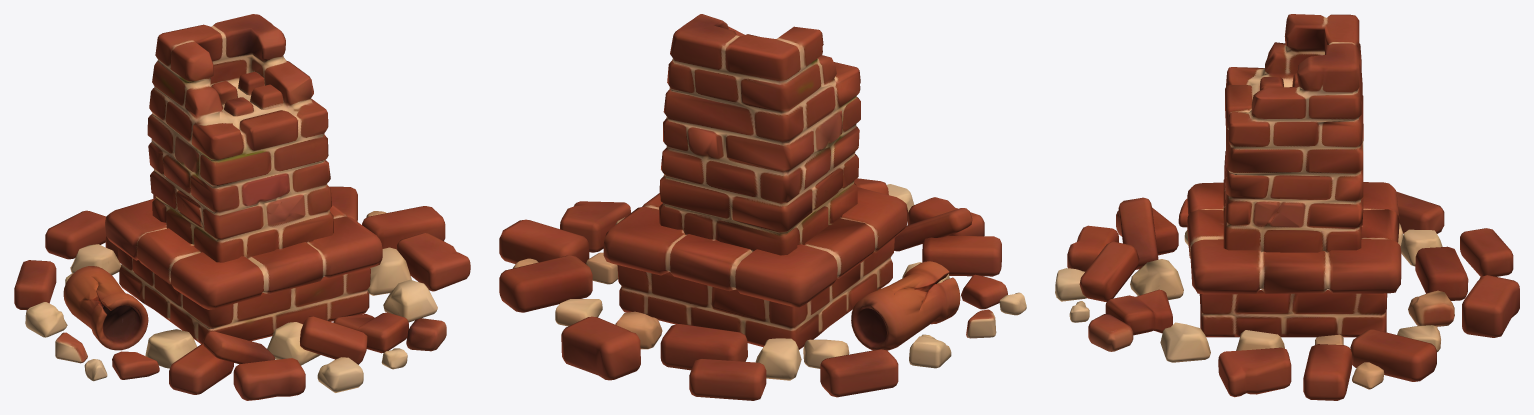
The model's file is boss_chimney_broken.glb.
3 views of the same model, side by side, from view 1: azimuth 30°, elevation 25°; view 2: azimuth 150°, elevation 25°; view 3: azimuth 270°, elevation 25° (orthographic). The views are drawn at different scales.
Parts seen in each view (by area): view 1: boss_chimney_broken; view 2: boss_chimney_broken; view 3: boss_chimney_broken.
Part boxes in pixels (bbox=[...]): boss_chimney_broken: bbox=[14, 14, 470, 400]; boss_chimney_broken: bbox=[499, 14, 1026, 400]; boss_chimney_broken: bbox=[1055, 14, 1519, 400].
Size of the model in its own units: 4.99 by 3 by 4.81.
Materials: 1 (1 with a texture image).
